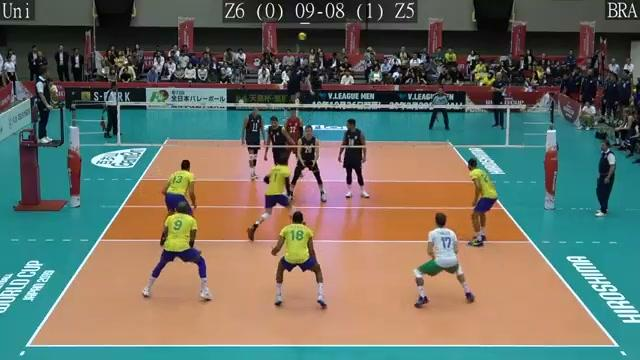ball: (296, 30, 307, 42)
